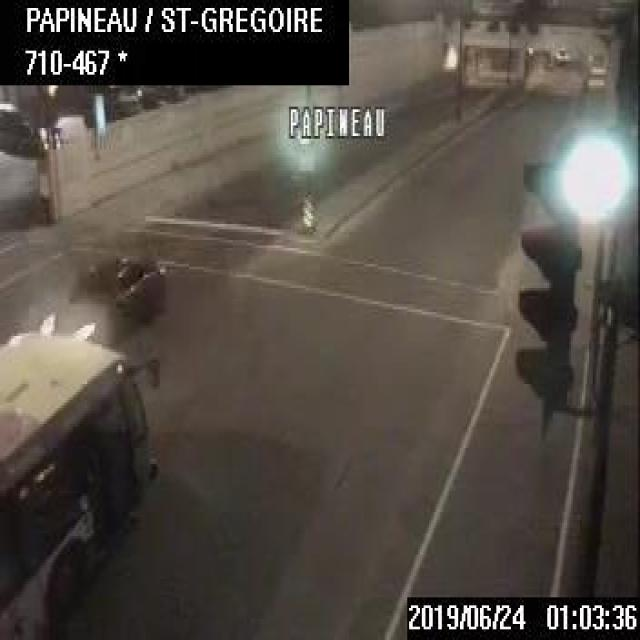bus: (0, 333, 158, 638)
vehicle: (66, 250, 169, 330), (552, 42, 570, 64), (0, 630, 15, 638)
